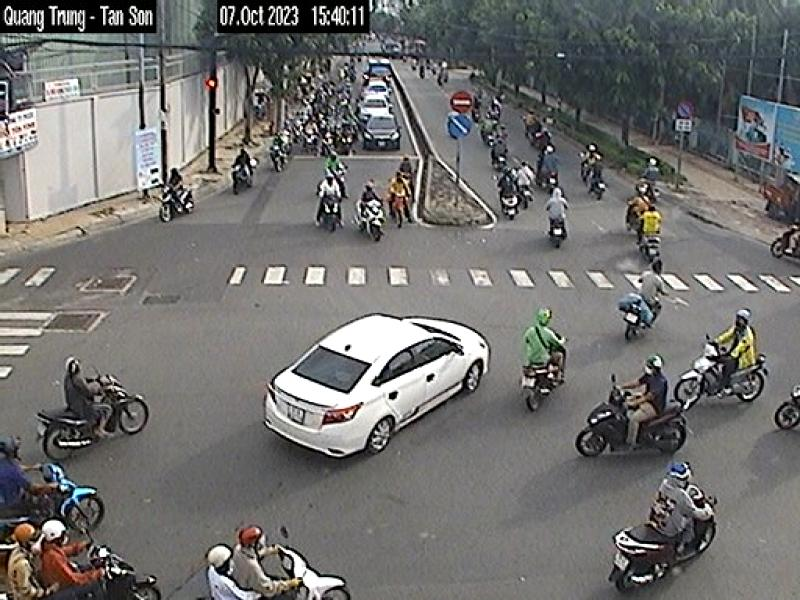car: (263, 310, 491, 459), (362, 112, 402, 149), (360, 94, 391, 115)
motorcycle: (607, 481, 719, 594), (573, 372, 697, 459), (30, 377, 151, 463), (676, 334, 768, 407), (30, 459, 105, 532), (521, 345, 568, 410), (619, 292, 655, 340), (772, 382, 800, 429)
